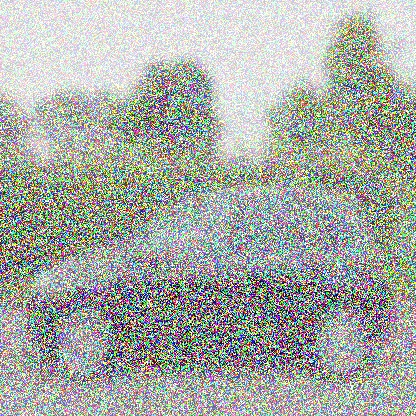Vehicle: (24, 189, 397, 384)
